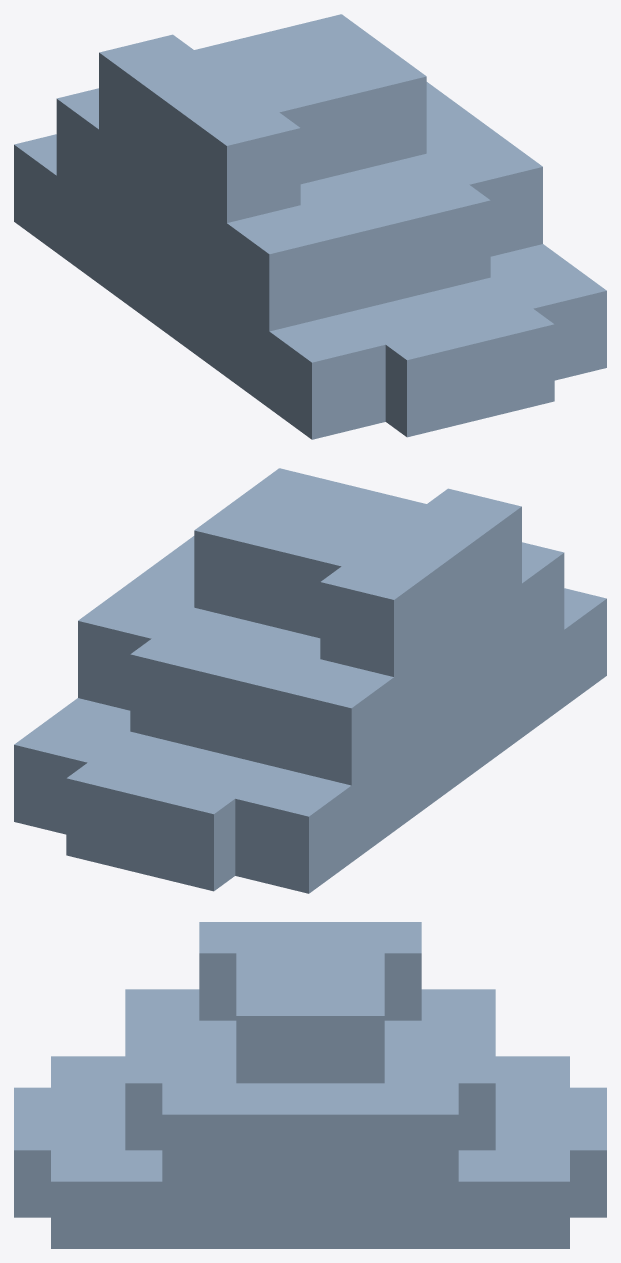
Rendered from stone-02.obj.
The picture shows the model from 3 angles, top to bottom: view 1: azimuth 30°, elevation 25°; view 2: azimuth 150°, elevation 25°; view 3: azimuth 270°, elevation 25°; orthographic projection. The views are drawn at different scales.
Bounding box in the file's own units: 4 × 3 × 8.
Materials: 1 (1 with a texture image).
